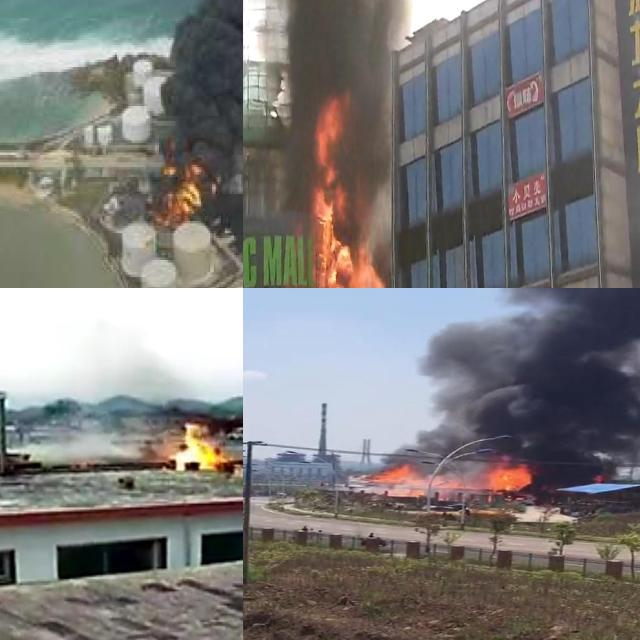fire: (289, 103, 387, 288), (362, 459, 530, 496), (168, 416, 232, 472), (155, 152, 203, 218), (482, 459, 532, 492)
smoke: (415, 321, 640, 455), (278, 0, 396, 167), (156, 0, 243, 155), (498, 288, 640, 338), (28, 422, 128, 459)
